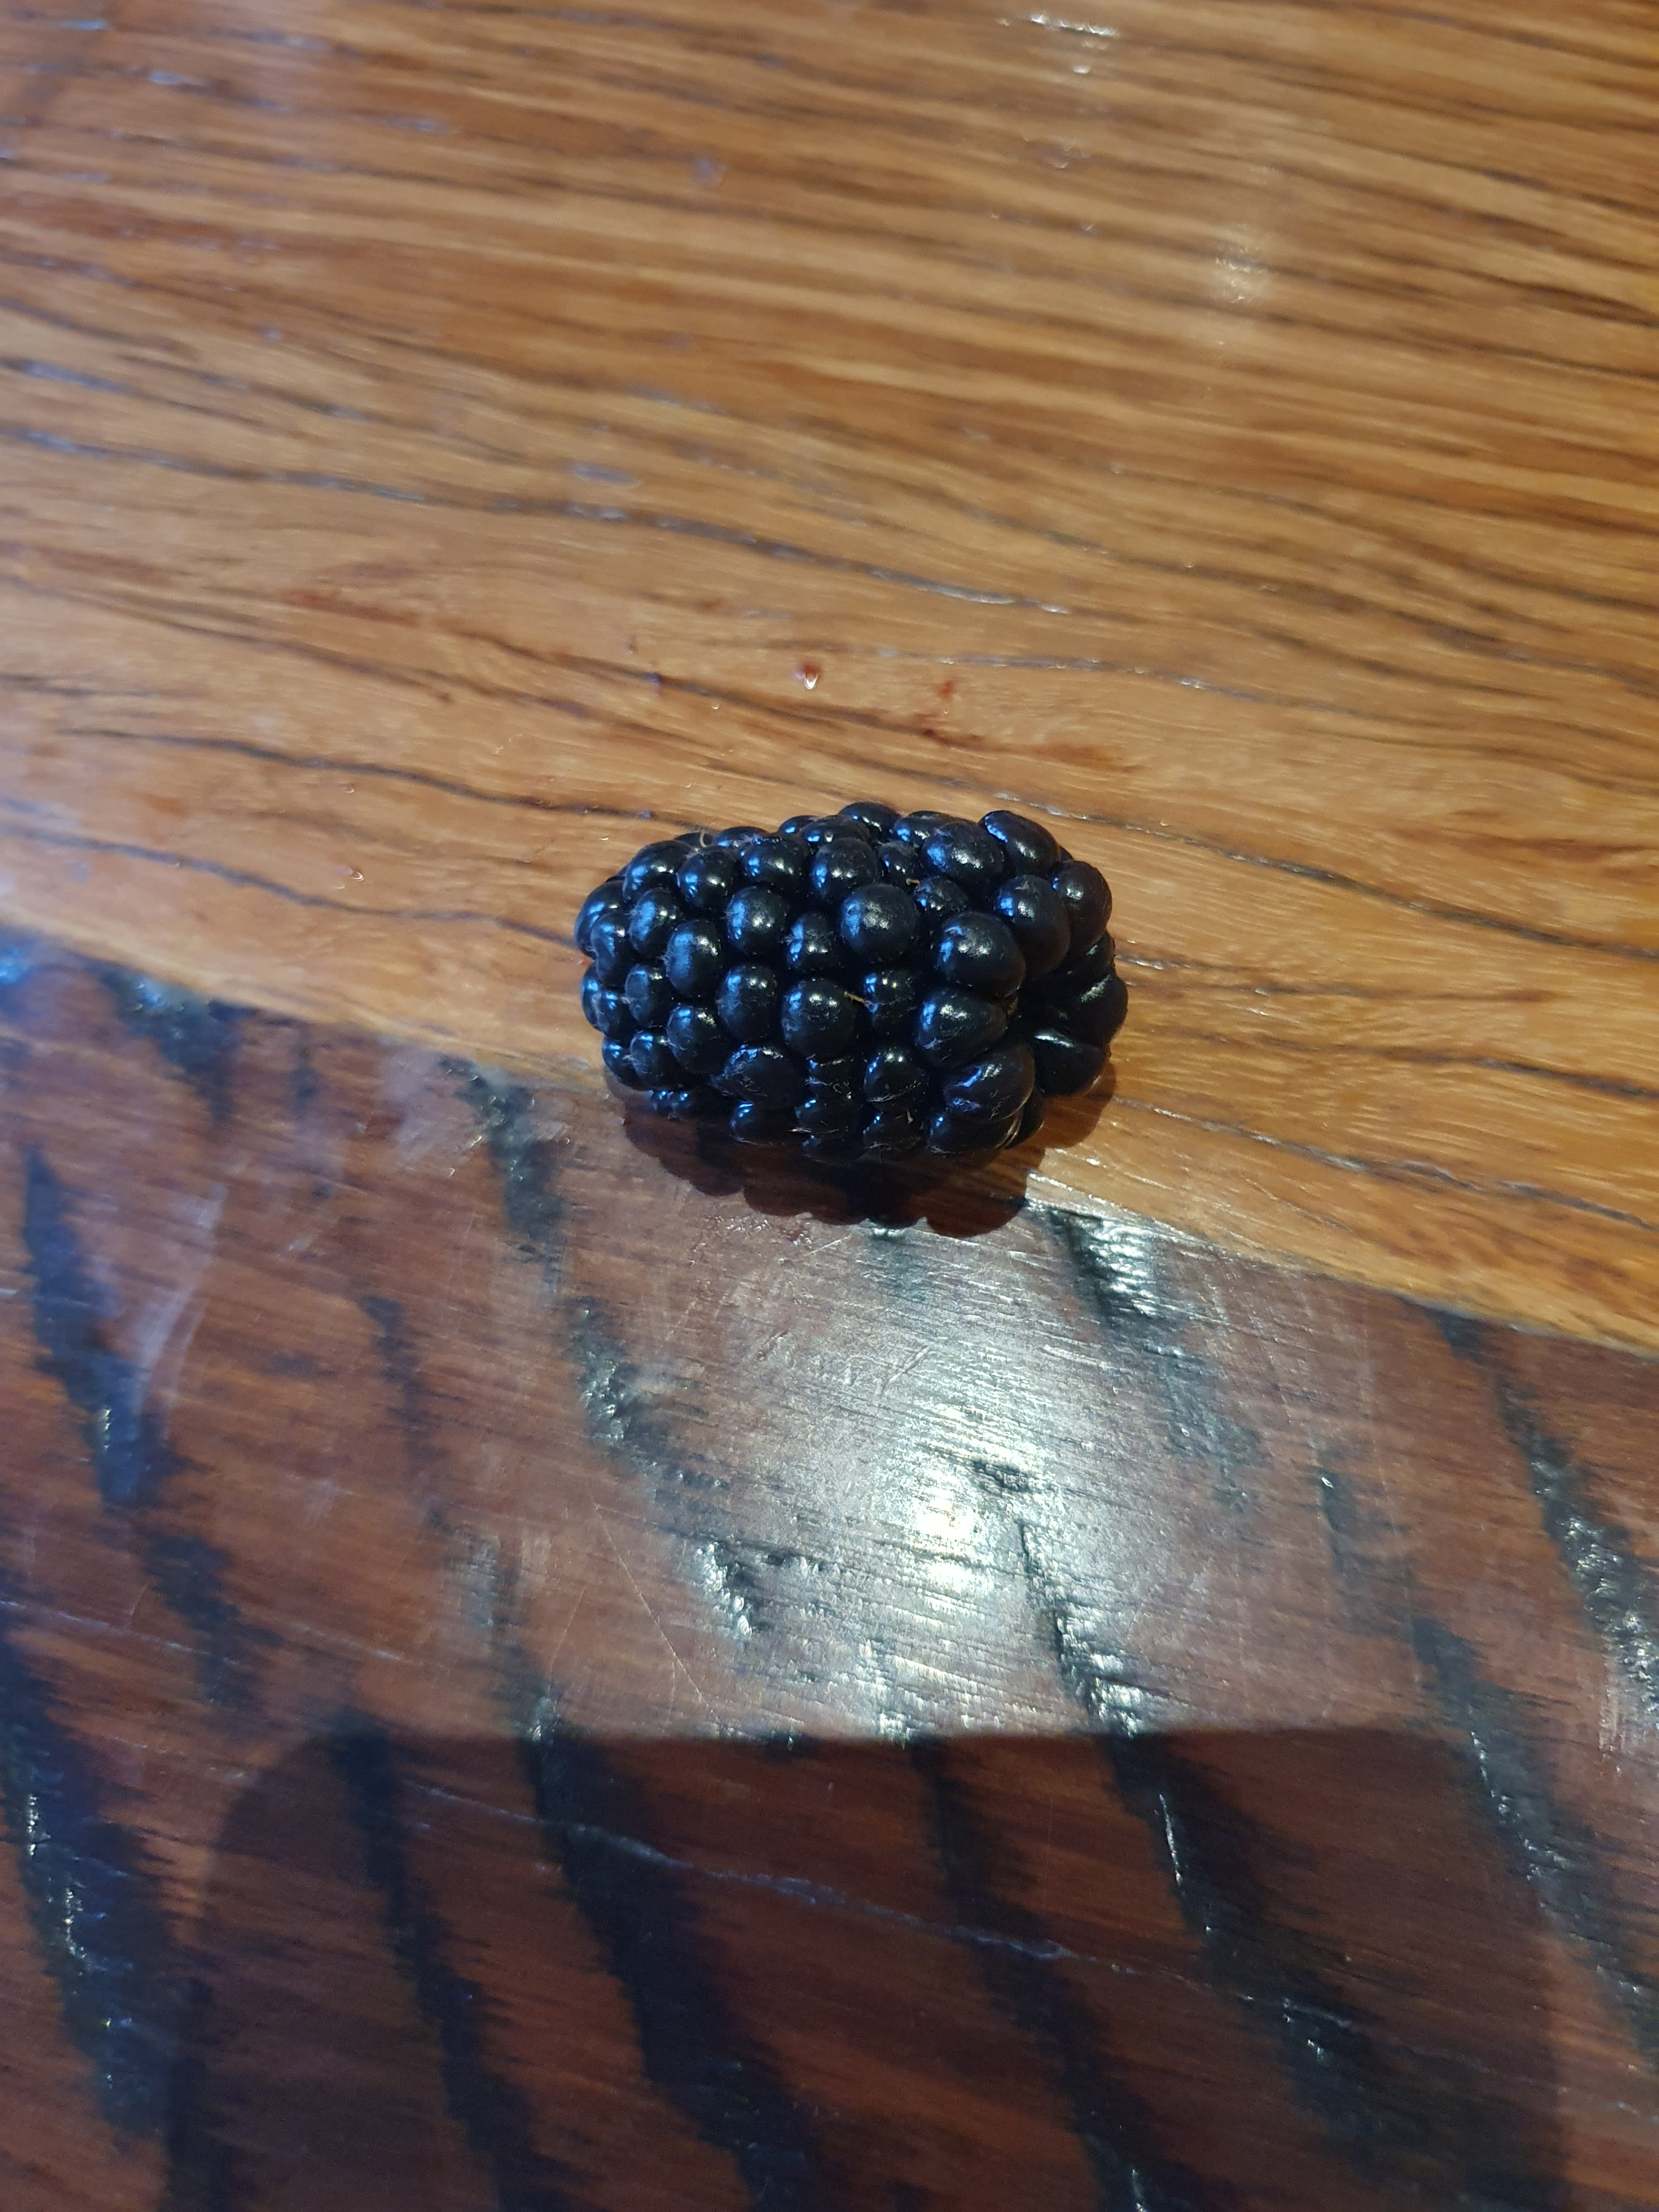blackberry: (525, 754, 1164, 1230)
